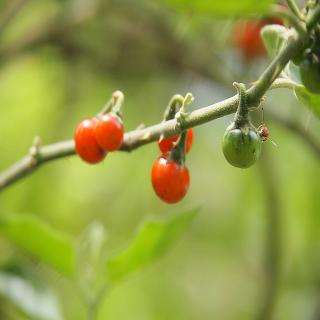tomato: (221, 118, 264, 172), (149, 150, 190, 202), (70, 115, 108, 162), (156, 115, 194, 149), (96, 110, 123, 149)
